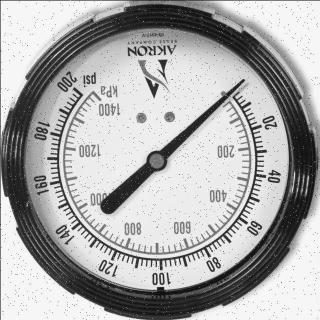gauge: (0, 0, 320, 320), (222, 58, 254, 110), (61, 66, 84, 110), (145, 150, 167, 172), (231, 74, 249, 91)
